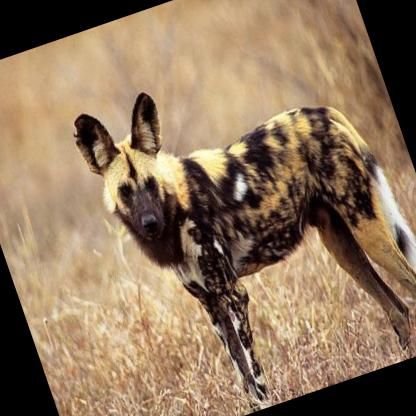African_hunting_dog: (65, 19, 416, 416)
